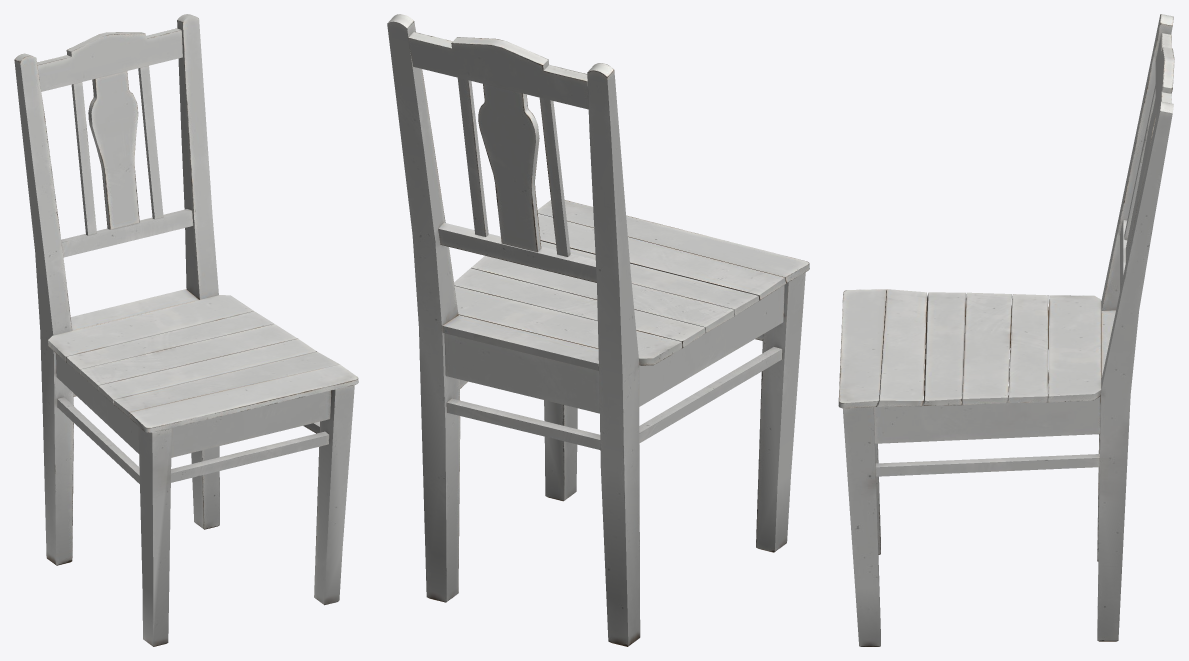
File: painted_wooden_chair_01.glb
The picture shows the model from 3 angles, left to right: view 1: azimuth 30°, elevation 25°; view 2: azimuth 150°, elevation 25°; view 3: azimuth 270°, elevation 25°; orthographic projection. The views are drawn at different scales.
Visible parts, largest first — view 1: painted_wooden_chair_01; view 2: painted_wooden_chair_01; view 3: painted_wooden_chair_01.
Boxes of the visible parts, <box> form: painted_wooden_chair_01: <box>14,14,358,646</box>; painted_wooden_chair_01: <box>387,14,809,646</box>; painted_wooden_chair_01: <box>838,14,1174,646</box>.
Size of the model in its own units: 0.4317 by 0.9558 by 0.5397.
1 material, 1 textured.
